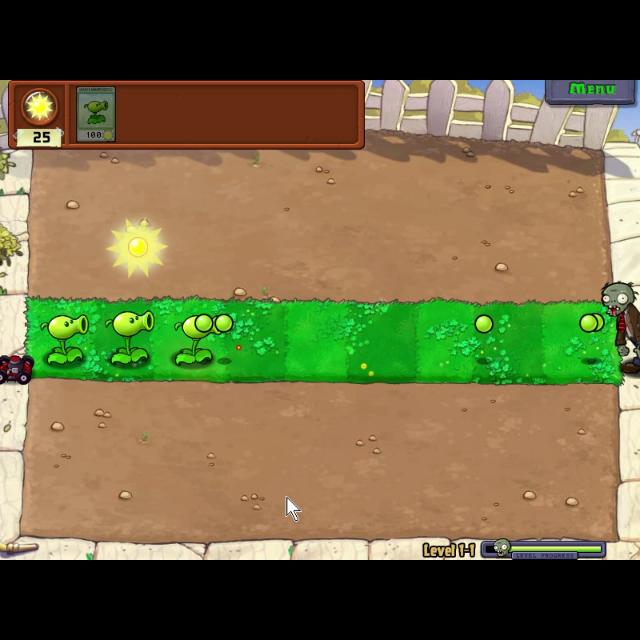Garden: (21, 292, 629, 388)
Menu Button: (544, 80, 634, 106)
Mower: (0, 350, 34, 388)
Peashooter: (74, 81, 120, 145)
Peashooter Seed: (36, 310, 94, 364), (102, 310, 160, 364), (172, 315, 228, 367)
Seed Panel: (6, 80, 368, 152)
Sun: (102, 214, 168, 280)
Zombie: (598, 278, 640, 379)
